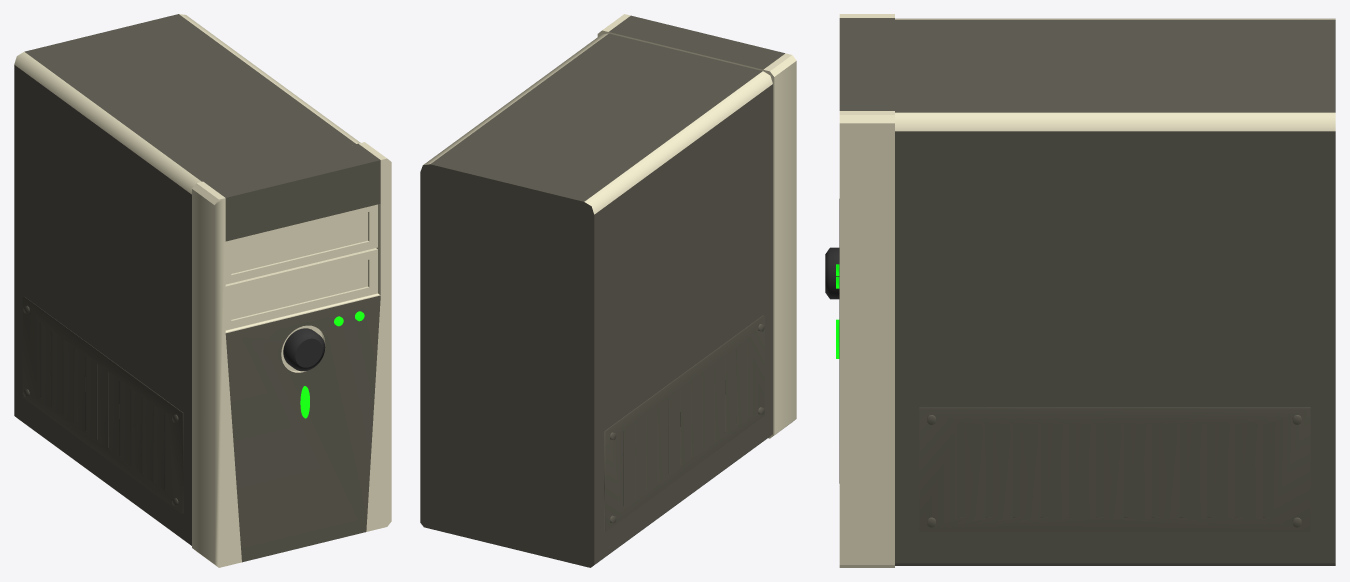
File: workstation_tier7.fbx
3 views of the same model, side by side, from view 1: azimuth 30°, elevation 25°; view 2: azimuth 150°, elevation 25°; view 3: azimuth 270°, elevation 25° (orthographic). The views are drawn at different scales.
Visible parts, largest first — view 1: Cube, Cube.002, Cylinder.001; view 2: Cube, Cube.002; view 3: Cube, Cube.001, Cylinder.001.
Boxes of the visible parts, box(x1,y1,x2,y2) form: Cube: box(14, 14, 391, 567); Cube.002: box(22, 296, 183, 513); Cylinder.001: box(283, 328, 325, 371); Cube: box(420, 14, 796, 567); Cube.002: box(604, 315, 764, 531); Cube: box(839, 14, 1335, 567); Cube.001: box(919, 407, 1310, 531); Cylinder.001: box(825, 247, 839, 299).
Size of the model in its own units: 0.4505 by 0.8598 by 0.8778.
